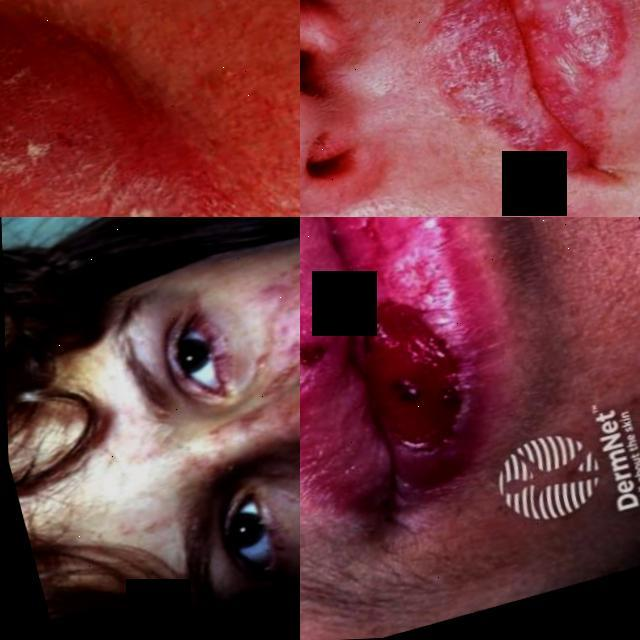lupus-detected: (300, 217, 581, 595), (359, 0, 640, 217), (0, 0, 219, 217), (140, 217, 300, 466), (200, 365, 300, 603), (540, 0, 640, 85)
